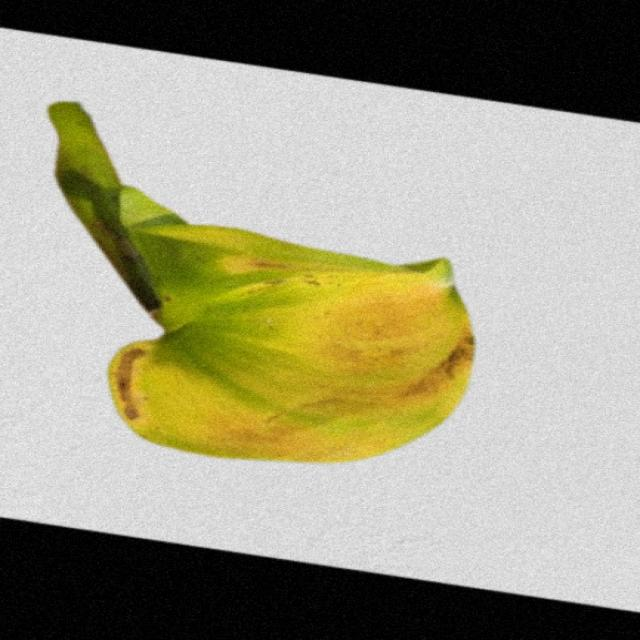daun berpenyakit kuning: (48, 102, 473, 462)
